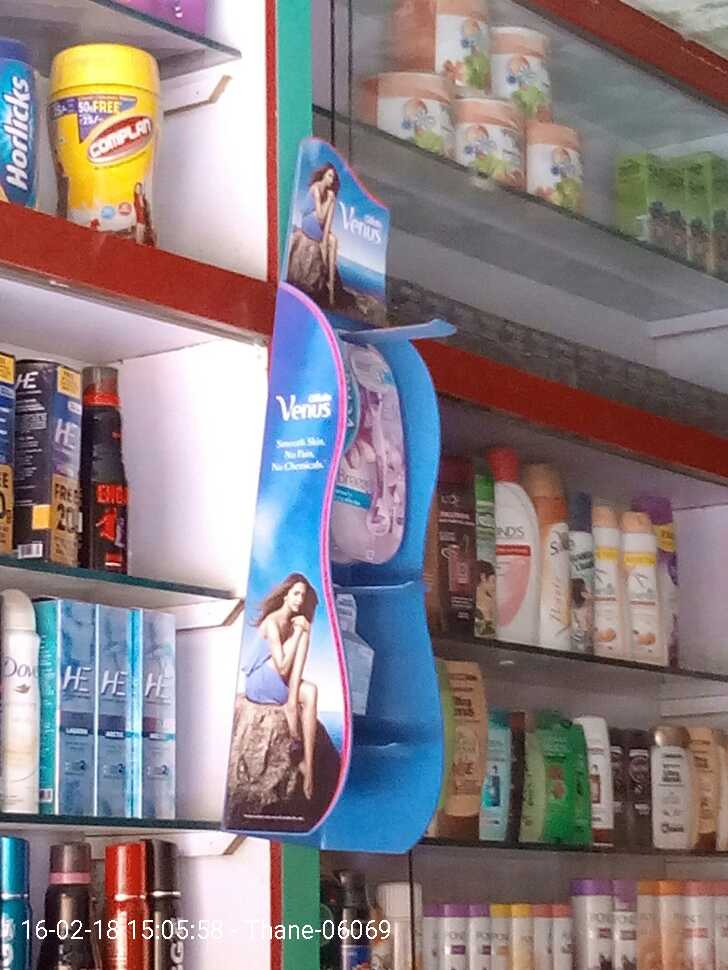beauty: (336, 336, 410, 551)
